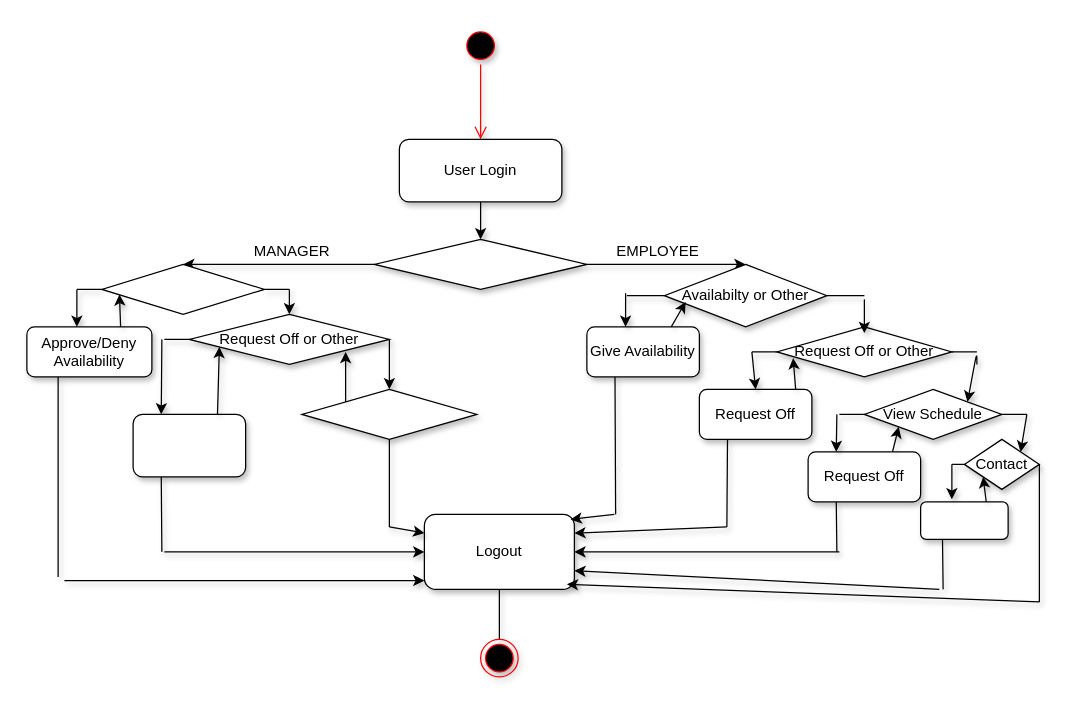
This 1079x708 diagram has some shape labels left out. The shapes that lost their labels are listed below. From the top down, each one's centre as x and y in pixels, then its label:
point (481, 265): Manager or Employee
point (182, 288): Availability or Other
point (390, 415): Produce Schedule
point (190, 447): Approve/Deny Request off
point (965, 522): Update Info
